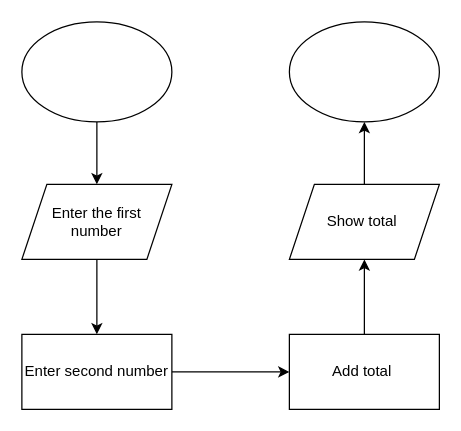
Image size: 461x431. Some labels were removed from this diagram. The shapes that lost their labels are listed below. From the top down, each one's box as (x1, y1, x2, y2) in pixels, then its label:
(21, 21, 172, 122): Start
(288, 21, 439, 122): Stop
